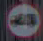Heavy Vehicles: (5, 2, 39, 40)
